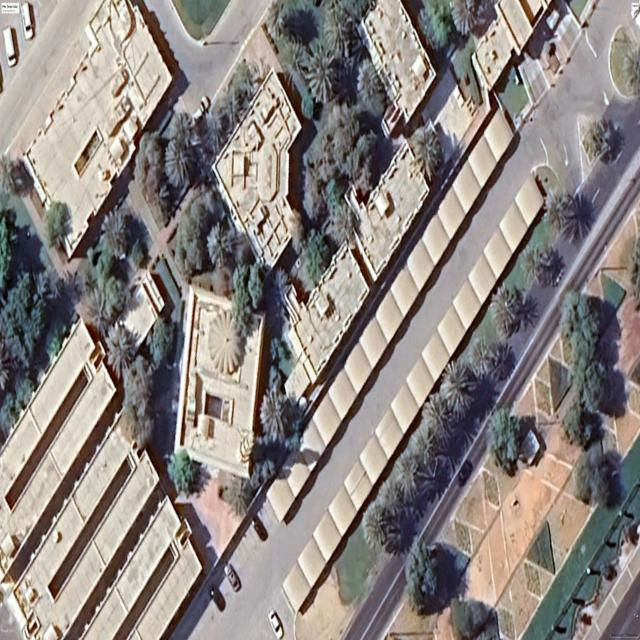mosque: (175, 284, 265, 479)
